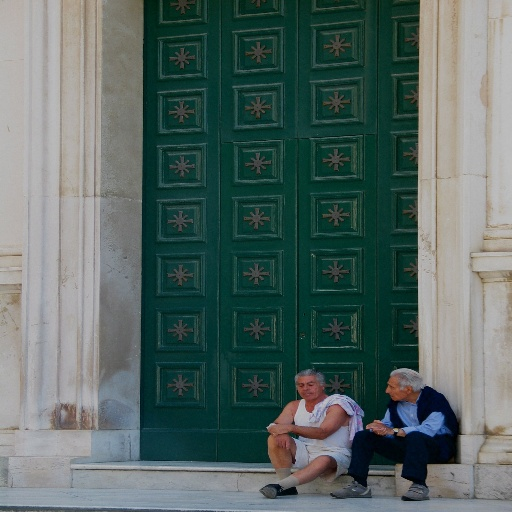hand: (263, 422, 288, 439), (365, 420, 391, 434), (370, 419, 388, 436)
